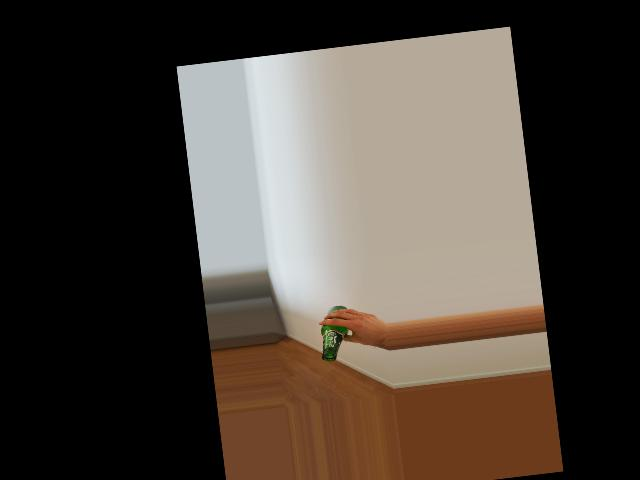beer: (316, 305, 352, 362)
